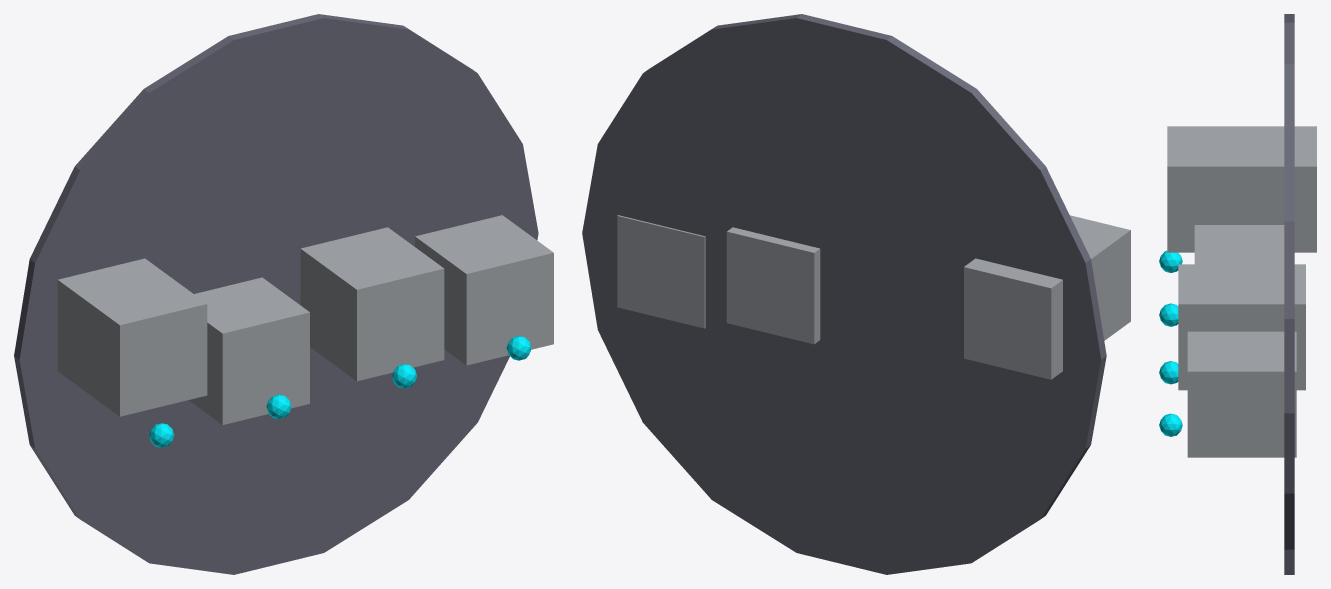
The model's file is 02_local_prop_cluster.glb.
The picture shows the model from 3 angles, left to right: view 1: azimuth 30°, elevation 25°; view 2: azimuth 150°, elevation 25°; view 3: azimuth 270°, elevation 25°; orthographic projection. The views are drawn at different scales.
Visible parts, largest first — view 1: scatter_base, tech_crate_0, tech_crate_2, tech_crate_3, tech_crate_1; view 2: scatter_base, tech_crate_0, tech_crate_2, tech_crate_3; view 3: tech_crate_0, tech_crate_3, tech_crate_2, scatter_base, tech_crate_1, status_light_3, status_light_0, status_light_1, status_light_2.
Part boxes in pixels (x1,y1,x2,y2): scatter_base: [14, 14, 538, 574]; tech_crate_0: [57, 258, 207, 416]; tech_crate_2: [300, 227, 444, 381]; tech_crate_3: [415, 215, 553, 365]; tech_crate_1: [189, 277, 309, 424]; scatter_base: [582, 14, 1106, 574]; tech_crate_0: [964, 215, 1130, 379]; tech_crate_2: [726, 227, 820, 344]; tech_crate_3: [617, 215, 705, 328]; tech_crate_0: [1167, 126, 1316, 252]; tech_crate_3: [1187, 331, 1296, 457]; tech_crate_2: [1178, 264, 1305, 390]; scatter_base: [1284, 14, 1294, 574]; tech_crate_1: [1194, 225, 1284, 264]; status_light_3: [1159, 413, 1182, 436]; status_light_0: [1159, 250, 1182, 272]; status_light_1: [1159, 303, 1178, 326]; status_light_2: [1159, 361, 1178, 384].
Bounding box in the file's own units: 1.9 × 1.87 × 0.5323.
